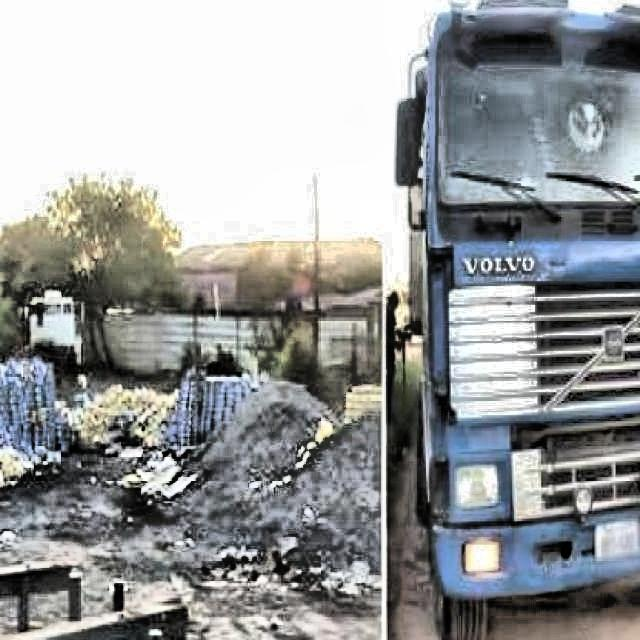dump_truck: (374, 0, 640, 640)
